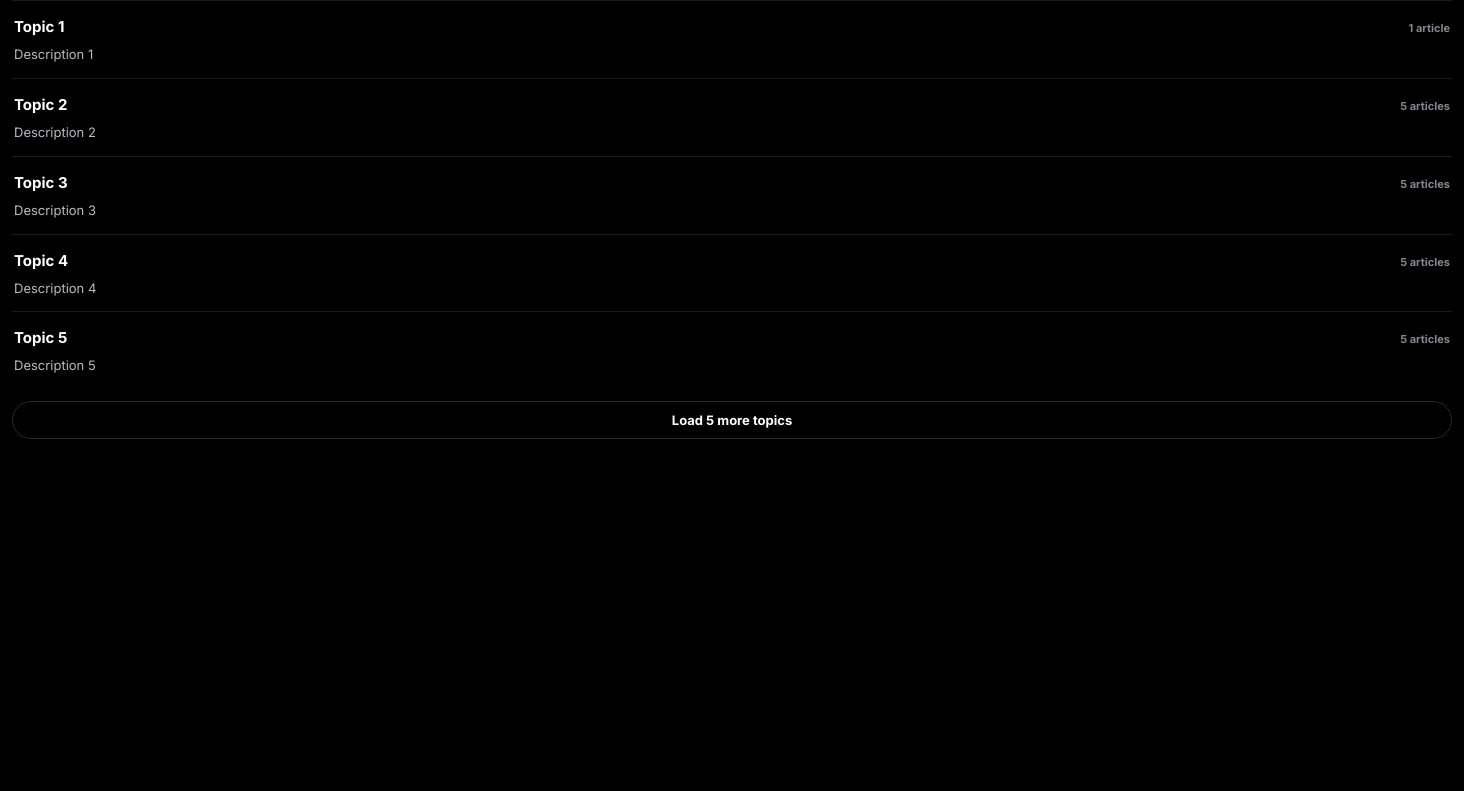
it: ProgressiveTopics › loads topics five at a time
expect the number of links with test id "topic-link" is 5: met, box left=12, top=0, right=1452, bottom=78; left=12, top=78, right=1452, bottom=156; left=12, top=156, right=1452, bottom=234; left=12, top=234, right=1452, bottom=311; left=12, top=311, right=1452, bottom=389
expect the text "1 article" is shown: met, box left=1408, top=20, right=1450, bottom=38
Click the button "Load 5 more topics" at x=732, y=420, box left=12, top=401, right=1452, bottom=439
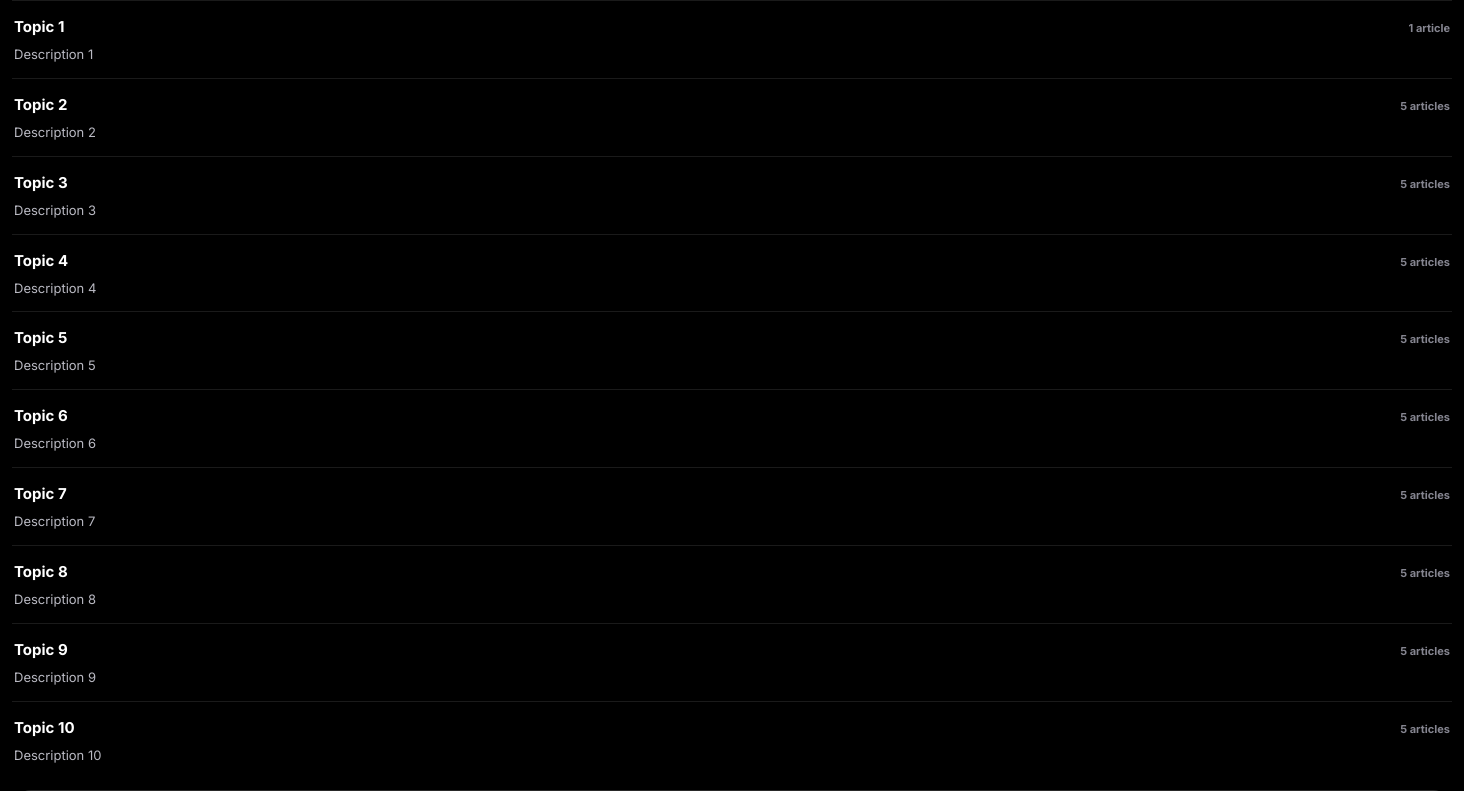
expect the number of links with test id "topic-link" is 10: met
